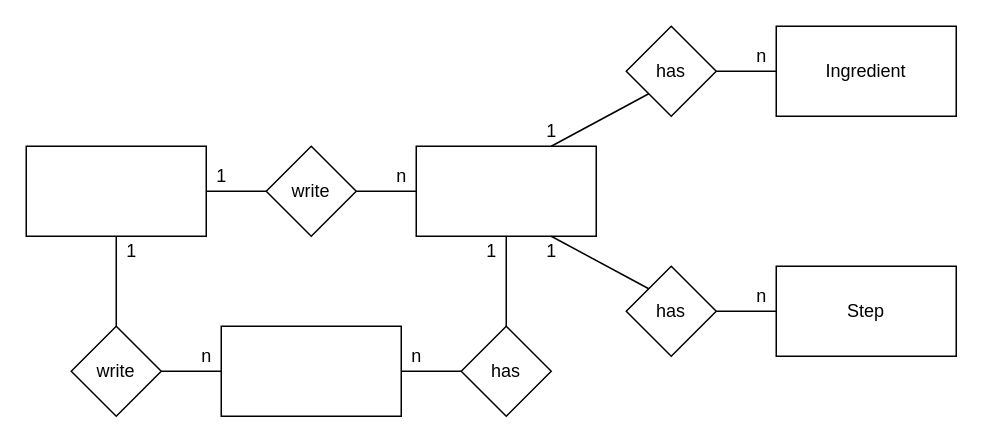
Some shapes in this 983 by 443 pixel diagram are drawn without their labels. The shapes that lost their labels are listed below. From the top down, each one's centre as x and y in pixels, then its label:
At point (115, 190): "User".
At point (505, 190): "Recipe".
At point (310, 370): "Review".
